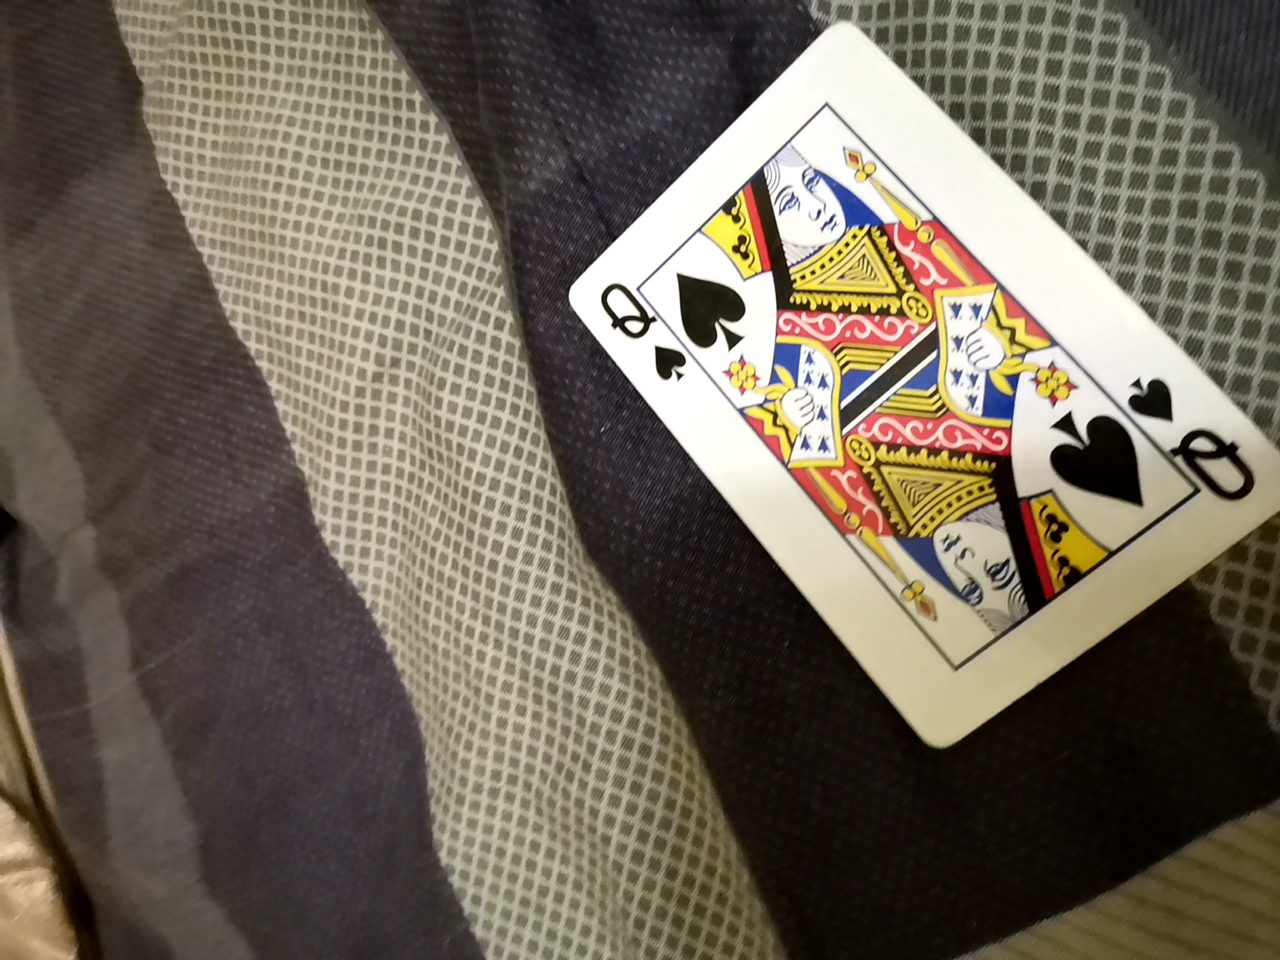ht q: (562, 15, 1266, 805)
